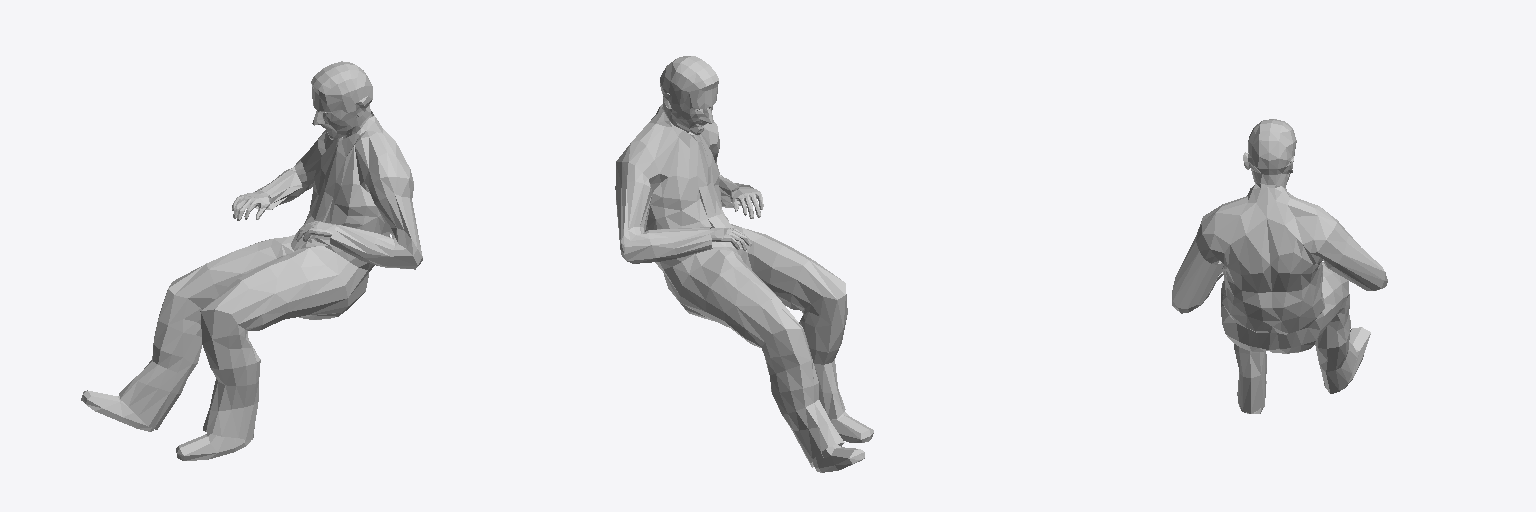
The model's file is BMan0008-Se.obj.
The picture shows the model from 3 angles: view 1: azimuth 30°, elevation 25°; view 2: azimuth 150°, elevation 25°; view 3: azimuth 270°, elevation 25°; orthographic projection.
Parts seen in each view (by area): view 1: bman0008_se_Imported_OBJ_Object; view 2: bman0008_se_Imported_OBJ_Object; view 3: bman0008_se_Imported_OBJ_Object.
Boxes of the visible parts, x1,y1,x2,y2 form: bman0008_se_Imported_OBJ_Object: [81, 61, 422, 460]; bman0008_se_Imported_OBJ_Object: [615, 56, 873, 472]; bman0008_se_Imported_OBJ_Object: [1172, 119, 1387, 413].
Size of the model in its own units: 1.06 by 1.32 by 0.7419.